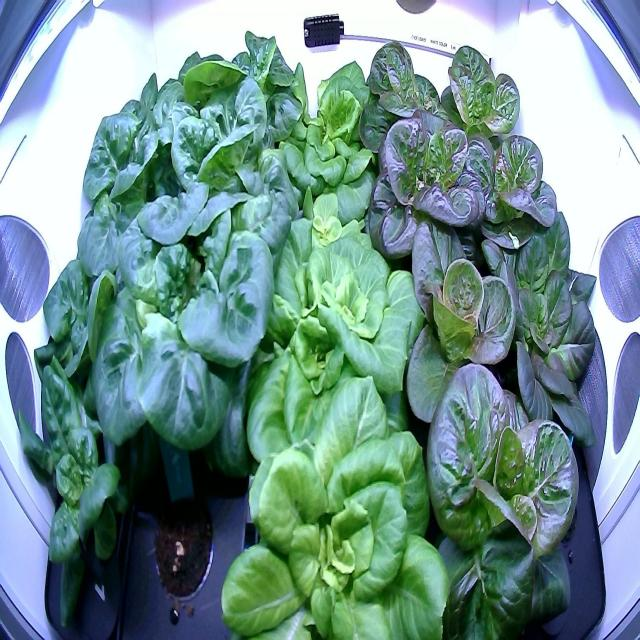Ready: (76, 154, 282, 498), (214, 368, 458, 638), (423, 352, 587, 640), (127, 54, 303, 272), (246, 238, 430, 446), (379, 97, 508, 333), (27, 184, 146, 405), (76, 57, 186, 250), (274, 52, 397, 222), (174, 20, 316, 166), (350, 37, 458, 218)
pod: (146, 482, 218, 606)
young: (472, 195, 610, 470), (8, 353, 140, 638), (394, 197, 526, 447), (451, 120, 568, 283), (430, 32, 542, 190), (278, 180, 378, 278)
